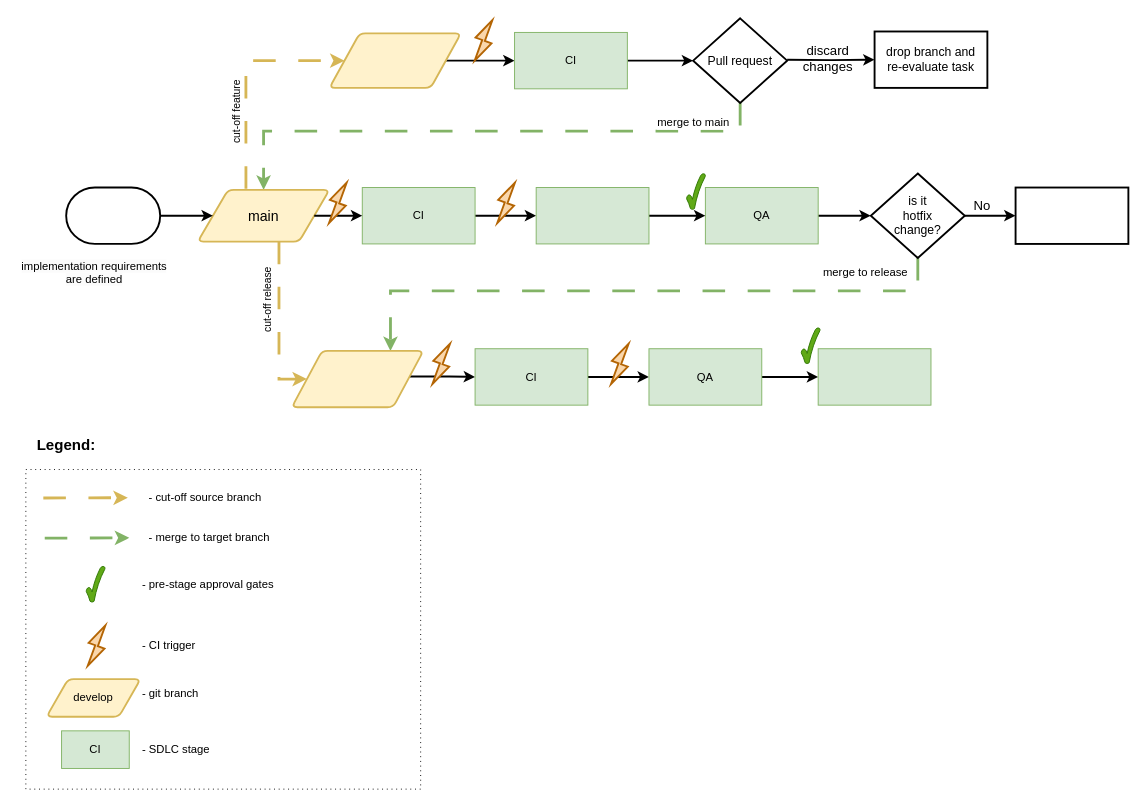
Some shapes in this 1145 by 807 pixel diagram are drawn without their labels. Each missing label, with the centre of its shape:
"continue with development" goes at [1071,215].
"DEV" goes at [592,215].
"feature (bugfix, hotfix)" goes at [394,60].
"PROD" goes at [874,376].
"release/ver" goes at [357,378].
"Start" goes at [113,215].
